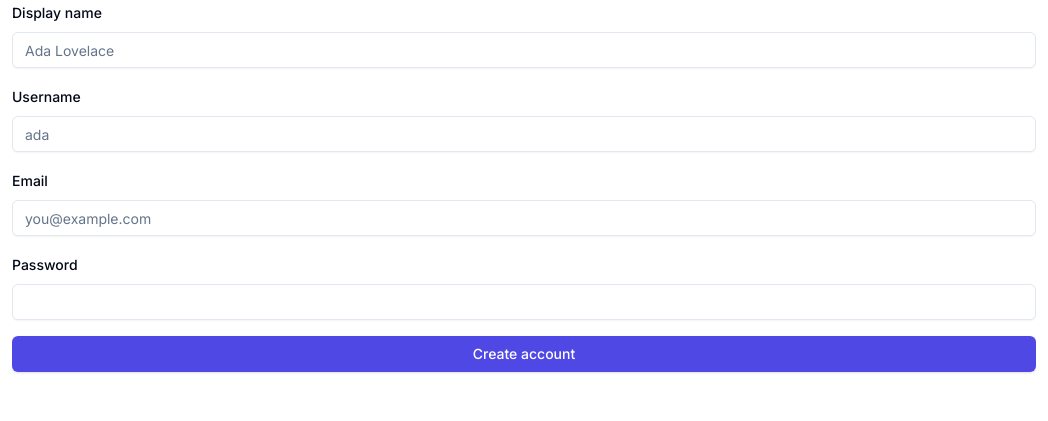
RegisterForm › shows an inline error on blur for a weak password
Type "weak" into the password field labelled "Password".
click(524, 302); type("weak")  # box [12, 284, 1036, 320]
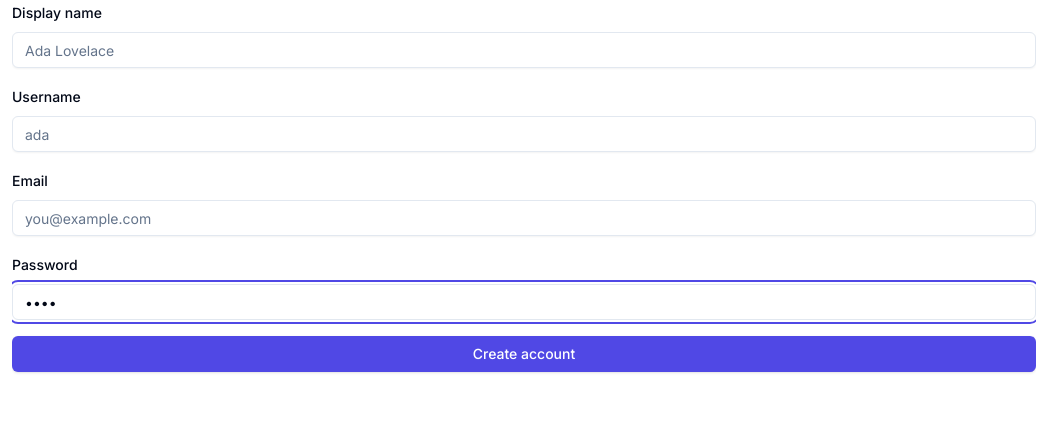
Press Tab
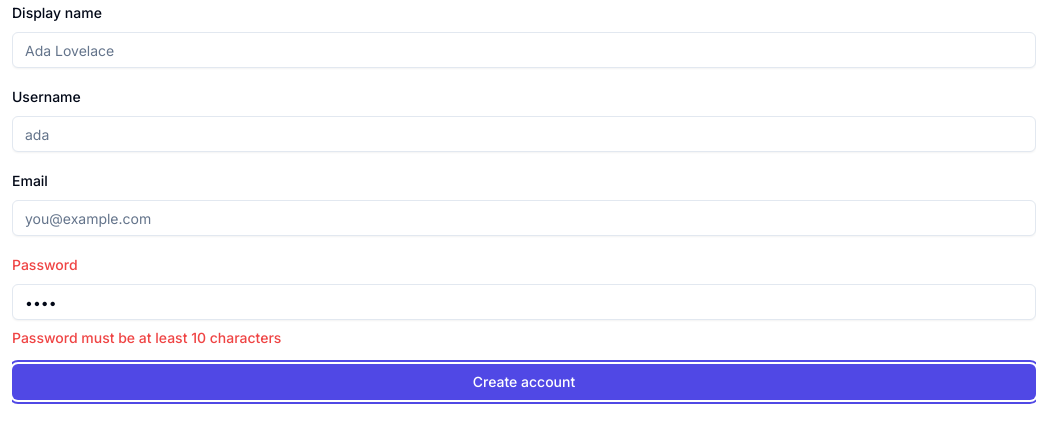
Check: the text "Password must be at least 10 characters" is shown, box [12, 329, 281, 346]
